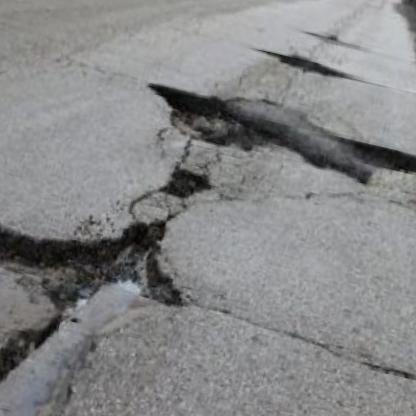pothole: (0, 155, 206, 416), (135, 75, 266, 158), (335, 127, 416, 193), (260, 44, 349, 80), (155, 158, 216, 205)
